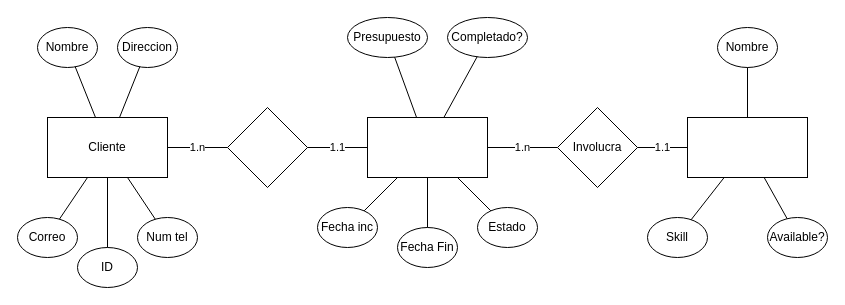
Image size: 845x305. Some labels were removed from this diagram. The shapes that lost their labels are listed below. From the top down, each one's centre as x and y in pixels, then its label:
At point 267,147: "Tiene".
At point 427,147: "Proyecto".
At point 747,147: "Desarrollador".
